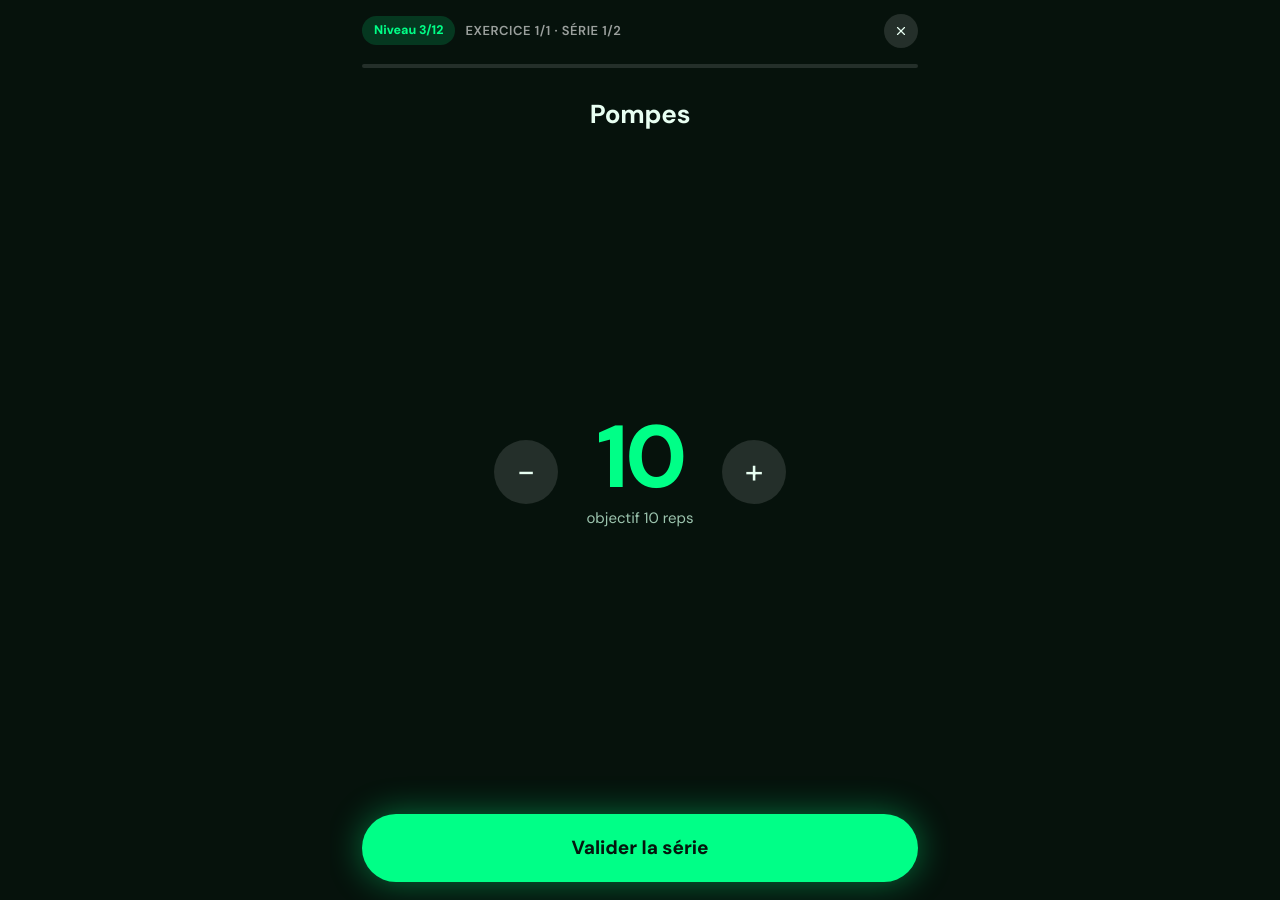
Scenario: sortie de seance › demande confirmation avant d abandonner la progression
This screenshot has width=1280, height=900.
What coordinates should you click on to do the following:
click the button named "Quitter la séance"
I would click on:
 (901, 30)
Its box is [884, 14, 918, 48].
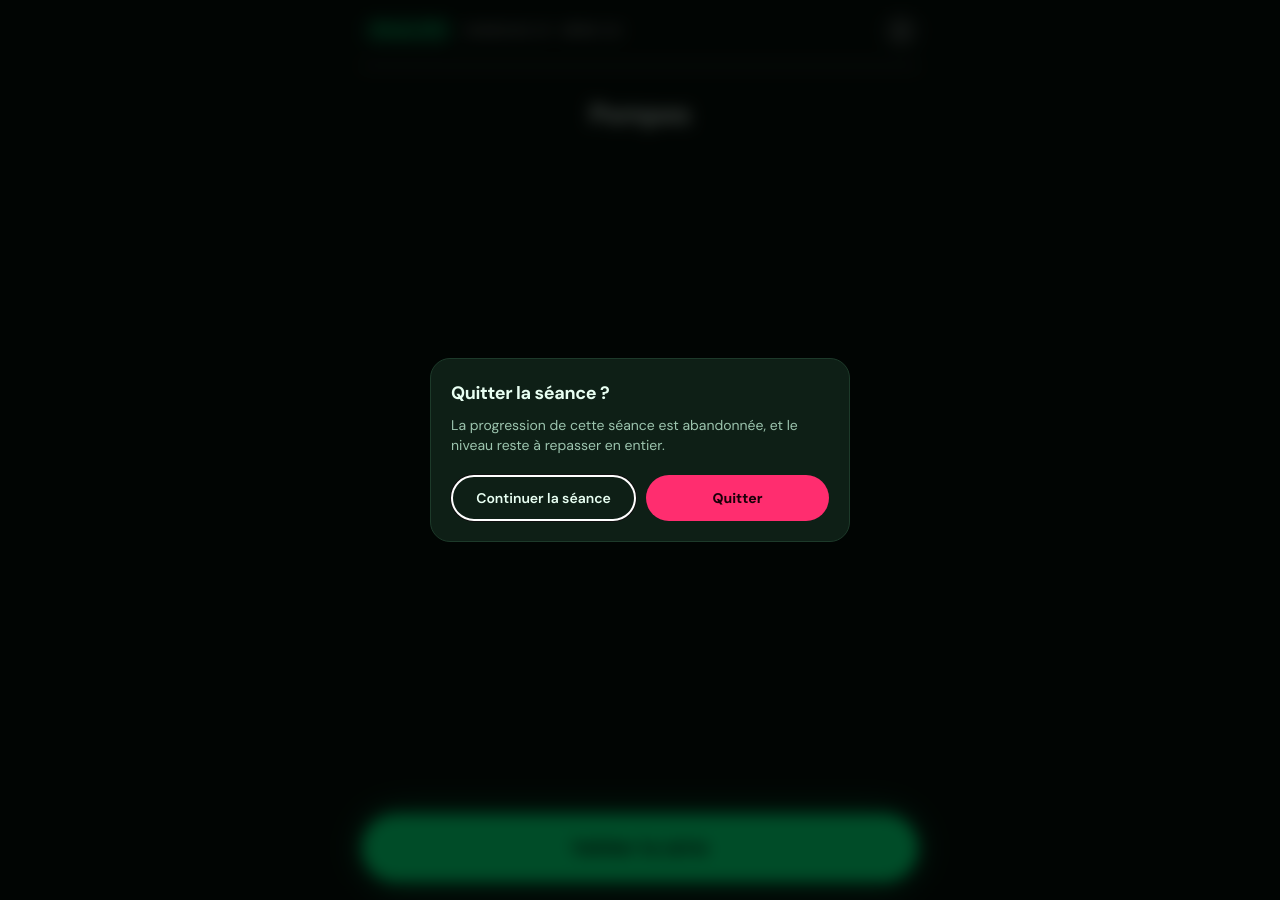
Expected: the dialog is shown
What coordinates should you click on to do the following:
click the button "Continuer la séance"
I would click on:
 (544, 498)
Its box is [451, 475, 636, 521].
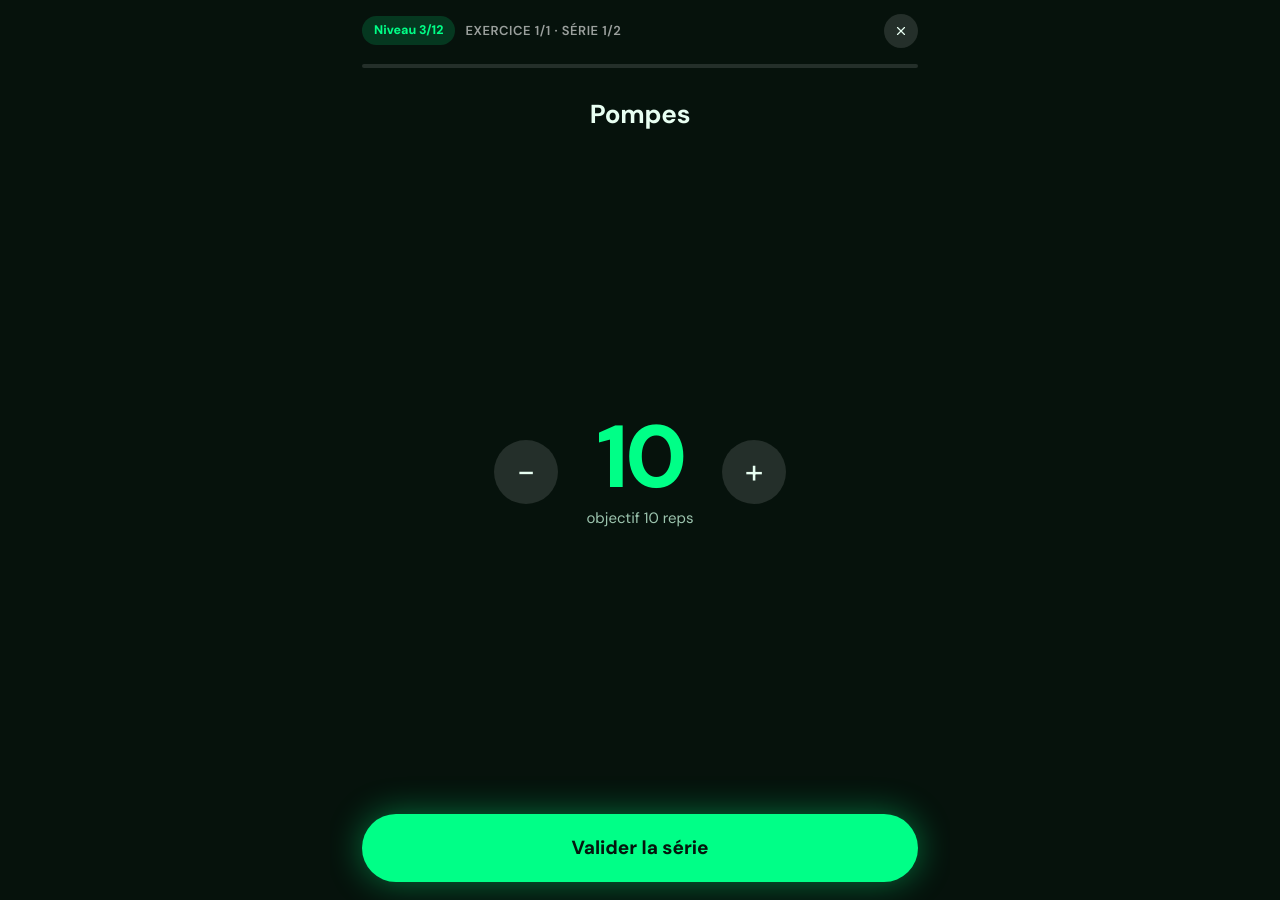
Expected: the dialog is gone
